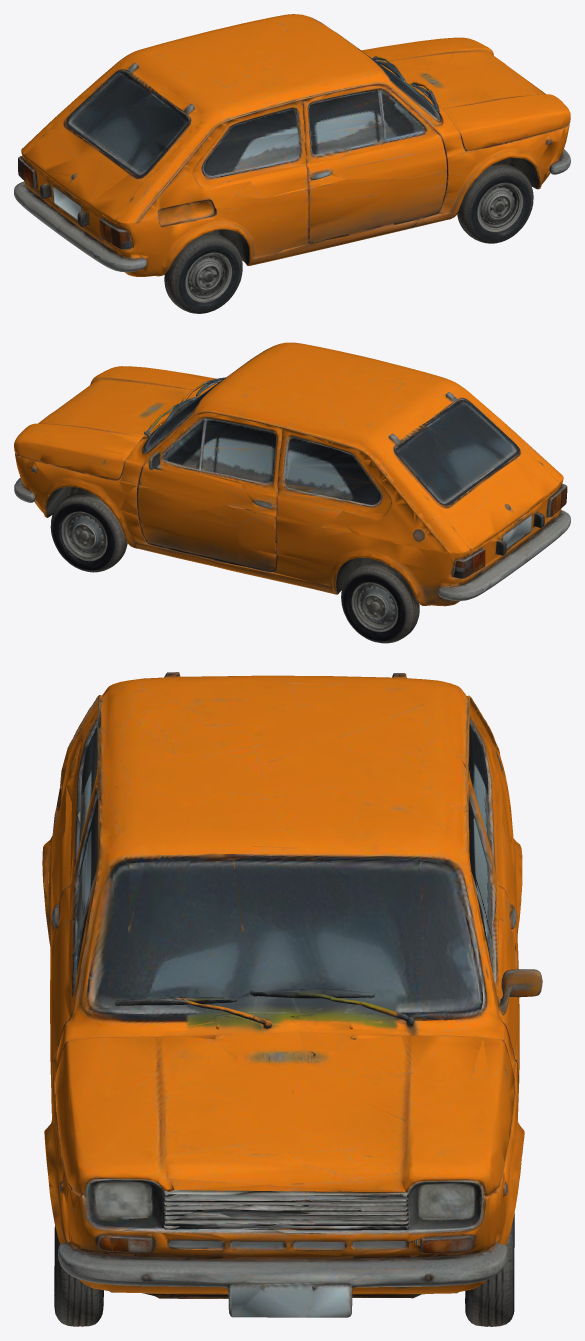
Rendered from jabuti-abandonado__01a16c1c.glb.
3 views of the same model, one above another, from view 1: azimuth 30°, elevation 25°; view 2: azimuth 150°, elevation 25°; view 3: azimuth 270°, elevation 25° (orthographic). The views are drawn at different scales.
Parts seen in each view (by area): view 1: jabuti-abandonado; view 2: jabuti-abandonado; view 3: jabuti-abandonado.
Part boxes in pixels (box(x1,y1,x2,y2)): jabuti-abandonado: box(14, 14, 570, 313); jabuti-abandonado: box(14, 342, 570, 643); jabuti-abandonado: box(42, 672, 542, 1326).
Size of the model in its own units: 3.62 by 1.42 by 1.67.
1 material, 1 textured.
